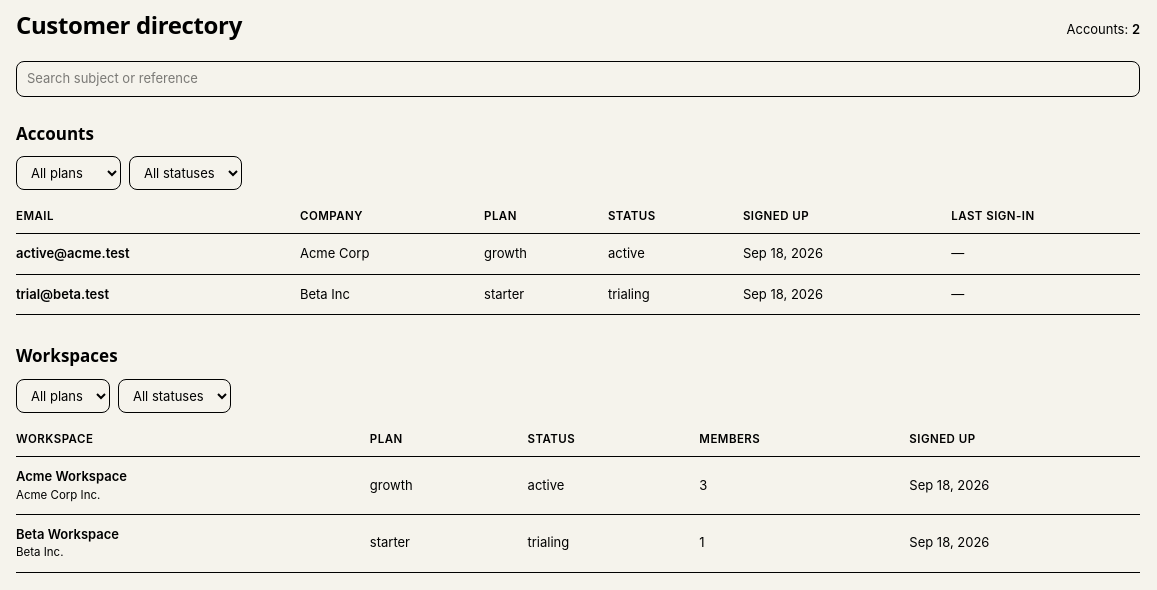
Test case: CustomerDirectoryView › filters accounts and workspaces independently
Check: the text "active@acme.test" is shown, box [16, 234, 300, 274]
Select "growth" in the dropdown named "Accounts — Plan": (68, 173) [16, 156, 121, 190]
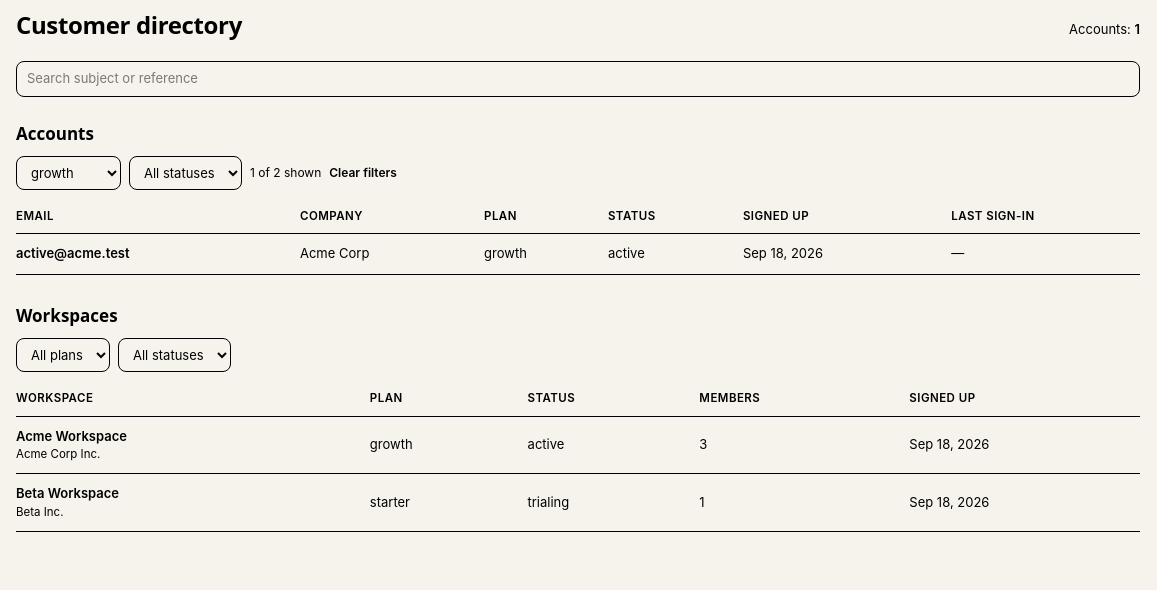
Check: the text "active@acme.test" is shown, box [16, 234, 300, 274]
Check: the text "trial@beta.test" is gone
Select "trialing" in the dropdown named "Workspaces — Status": (174, 355) [118, 338, 231, 372]
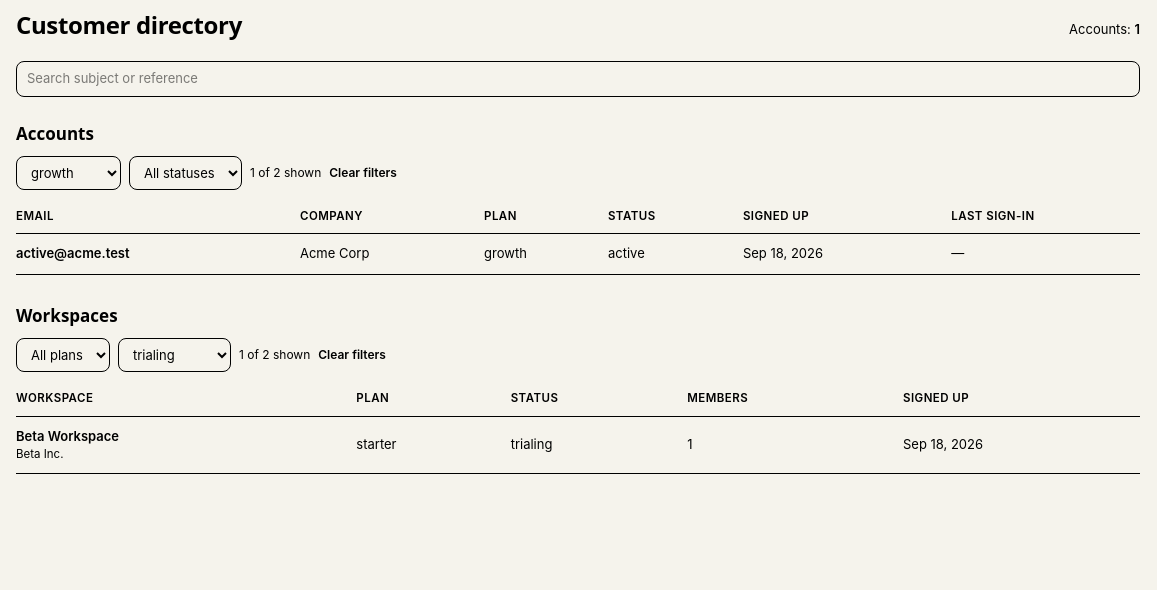
Check: the text "Beta Workspace" is shown, box [16, 428, 119, 444]
Check: the text "Acme Workspace" is gone
